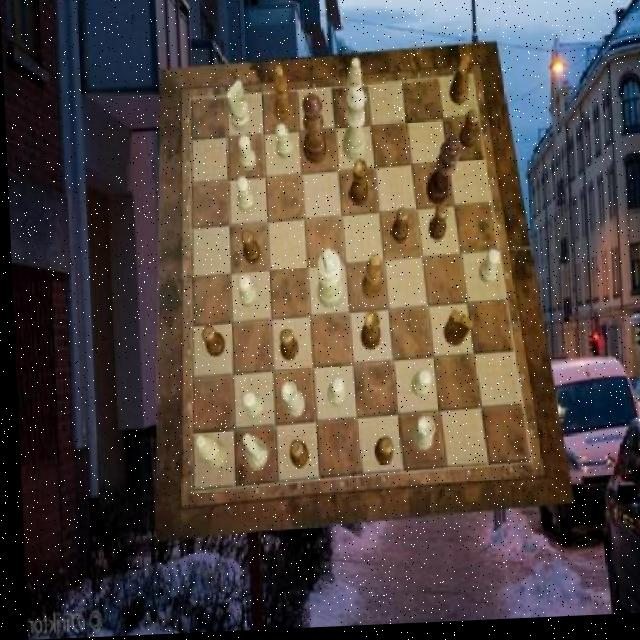bishop: (272, 69, 291, 127), (358, 258, 381, 305)
black-bishop: (423, 138, 462, 208)
black-king: (446, 57, 471, 109), (440, 312, 471, 350)
black-knight: (456, 114, 478, 153), (198, 326, 222, 360), (425, 208, 446, 246), (387, 211, 408, 246), (276, 330, 294, 365), (239, 232, 257, 267), (370, 441, 390, 469), (285, 442, 303, 470)
black-pawn: (299, 97, 326, 170)
black-queen: (346, 161, 366, 208), (356, 313, 377, 354)
black-rook: (342, 61, 363, 118), (191, 434, 223, 471)
white-bishop: (312, 252, 340, 311)
white-king: (225, 82, 249, 134), (237, 435, 263, 473)
white-knight: (475, 252, 497, 287), (234, 179, 252, 216), (274, 126, 292, 162), (236, 138, 254, 173), (235, 278, 254, 311), (238, 393, 261, 420), (406, 373, 427, 402), (322, 381, 341, 409)
white-pawn: (338, 89, 366, 164)
white-queen: (404, 419, 430, 455), (277, 384, 301, 421)
